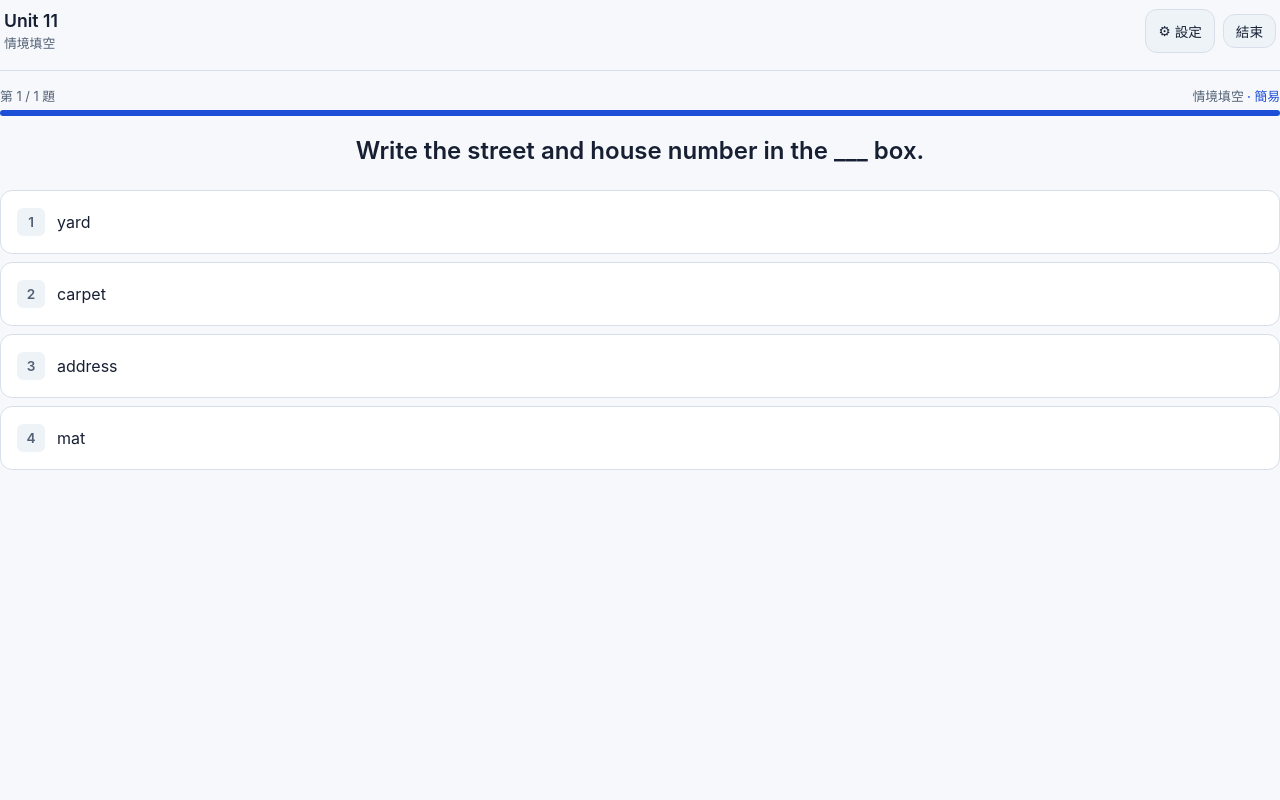
Test: ReportDialog (回報題目問題) › submits the report with auto-filled locator and chosen option
Click the button with class "option-btn" showing "1 yard" at point(74, 222), box [0,190,1279,254]
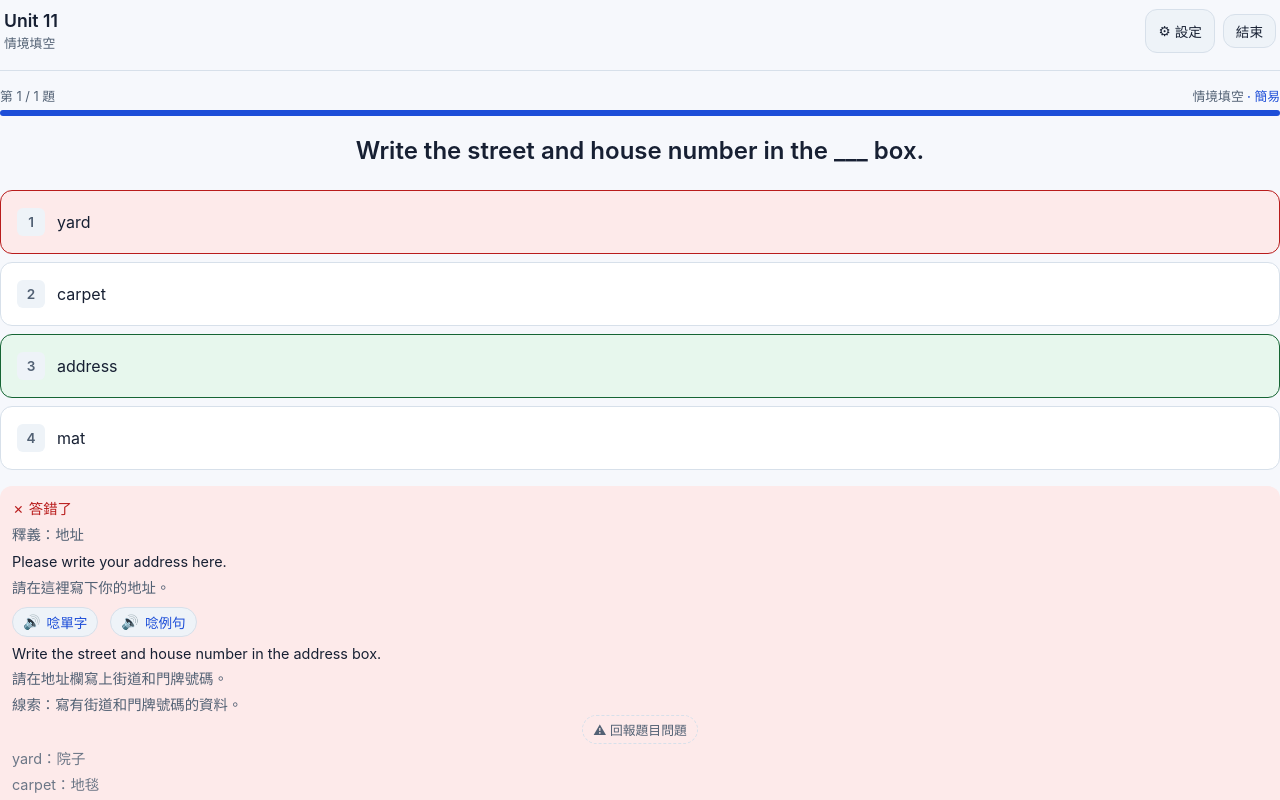
Click the button with class "report-btn" at point(640, 730), box [582,715,698,744]
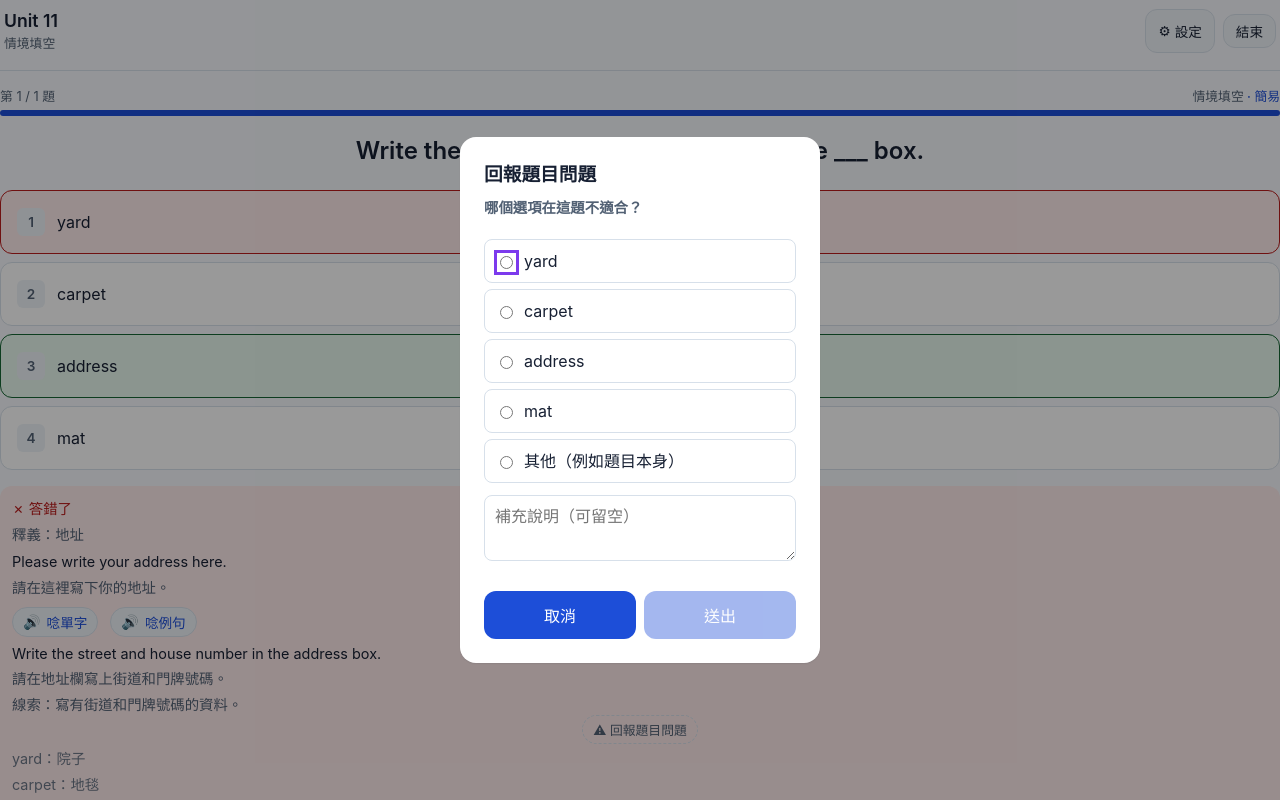
Click the radio button labelled "yard" at point(506, 262), box [500,256,513,269]
(page scrolled)
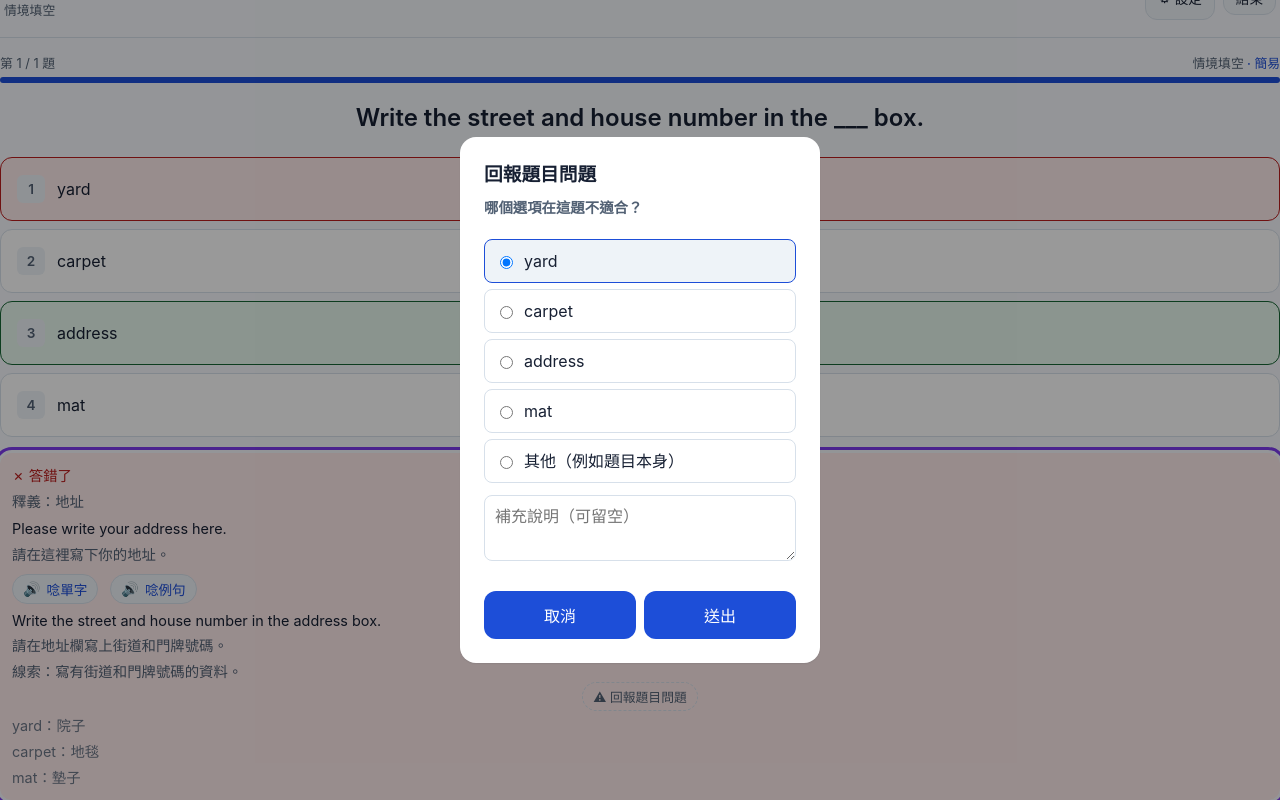
Click the button "送出" at point(720, 615), box [644,591,796,639]
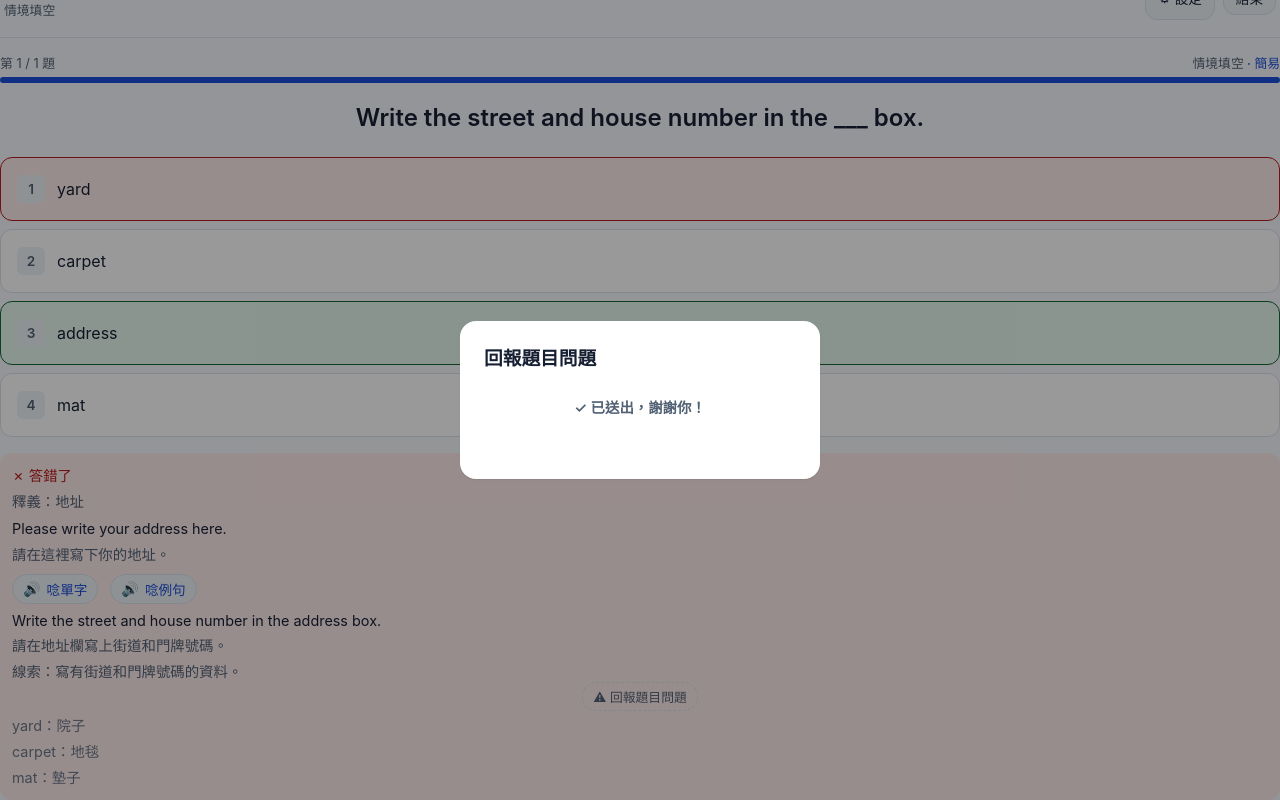
Expected: the text "yard" is shown, [57,179,90,199]
Expected: the text "✓ 已送出，謝謝你！" is shown, [574,399,706,416]
